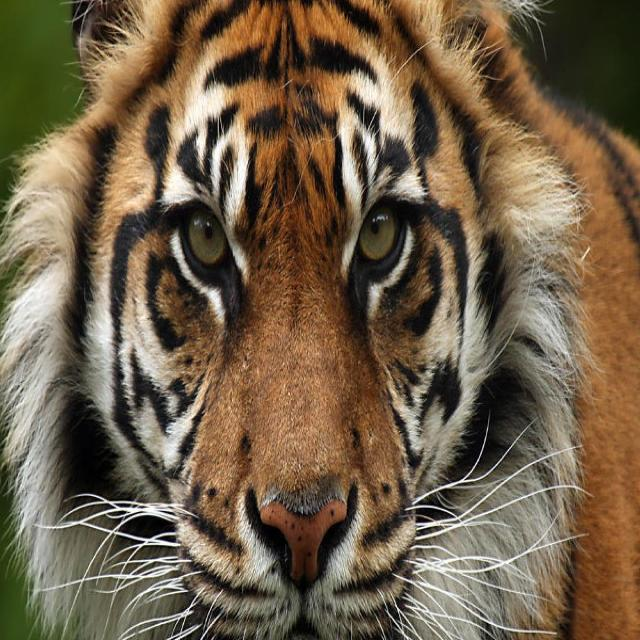Tiger: (1, 0, 638, 638)
